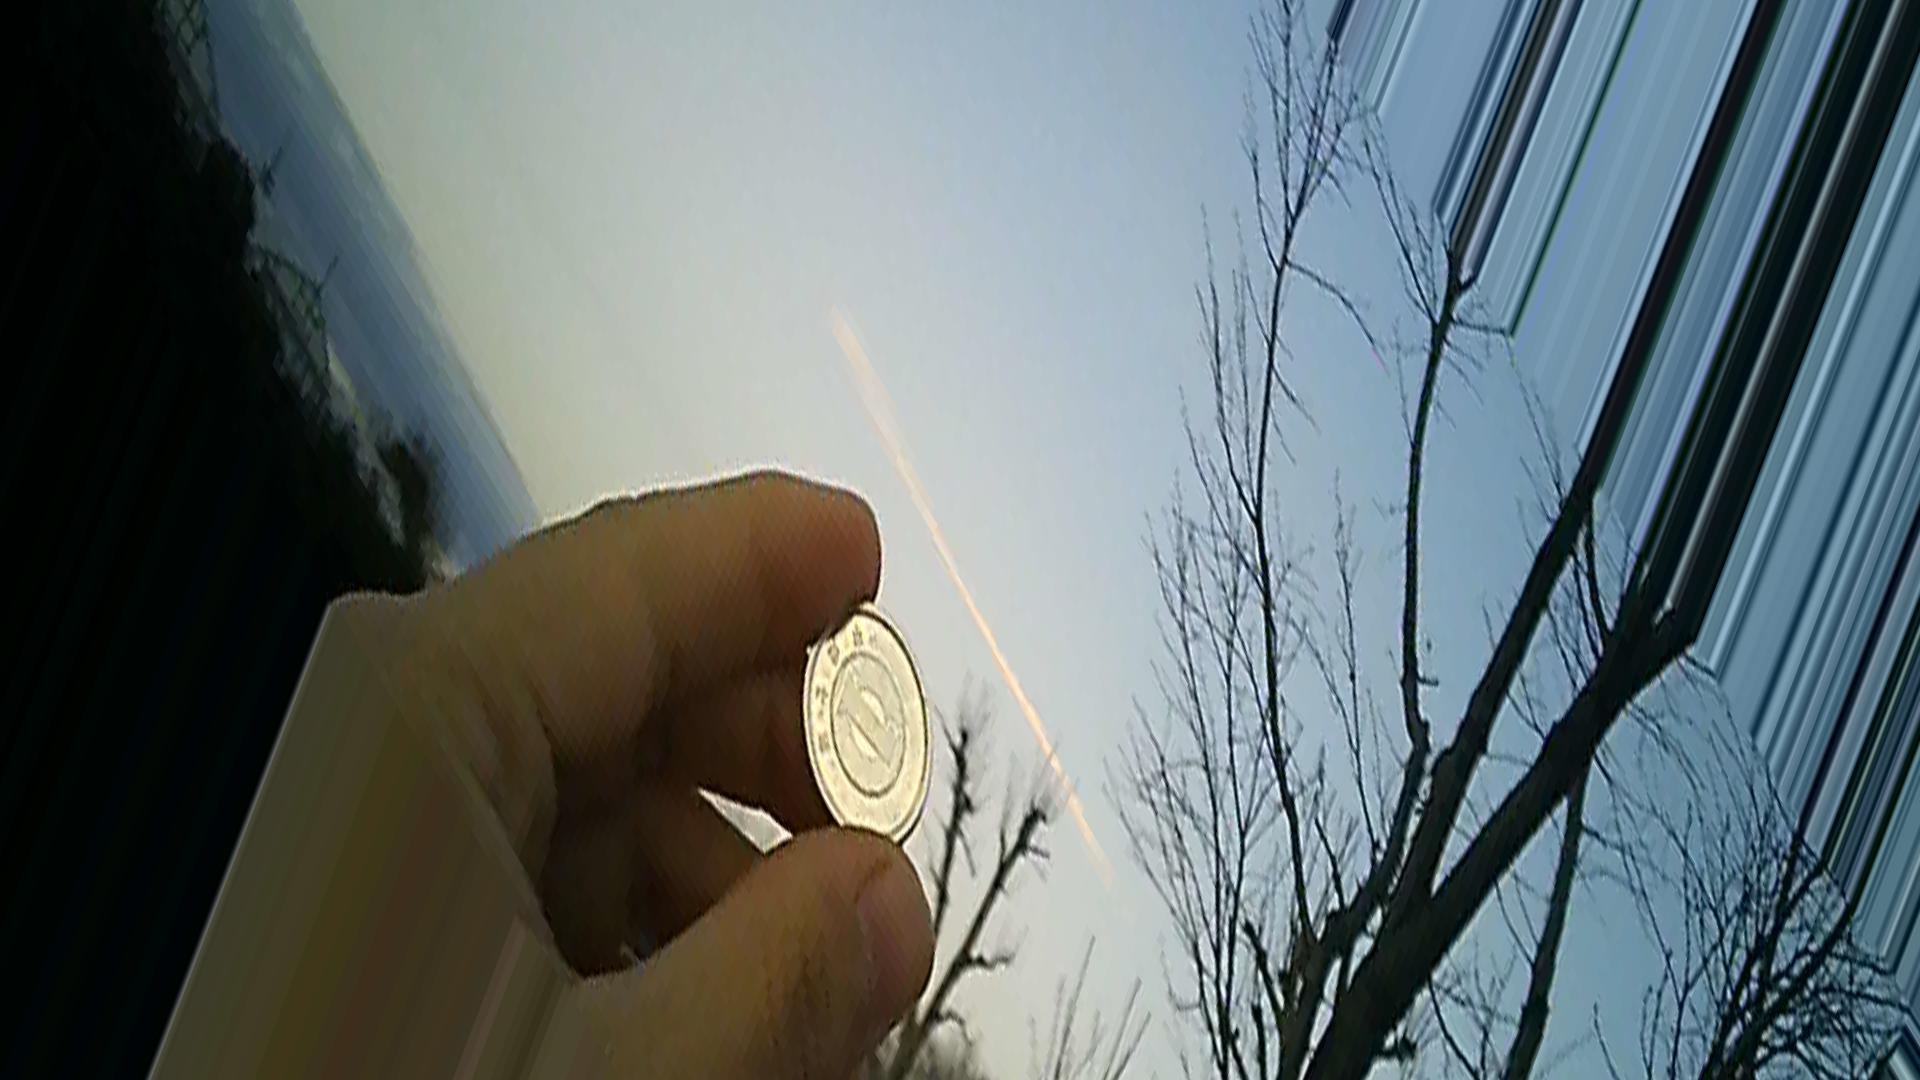1 Yen: (796, 603, 938, 855)
